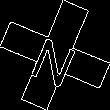N_NE: (27, 24, 83, 86)
